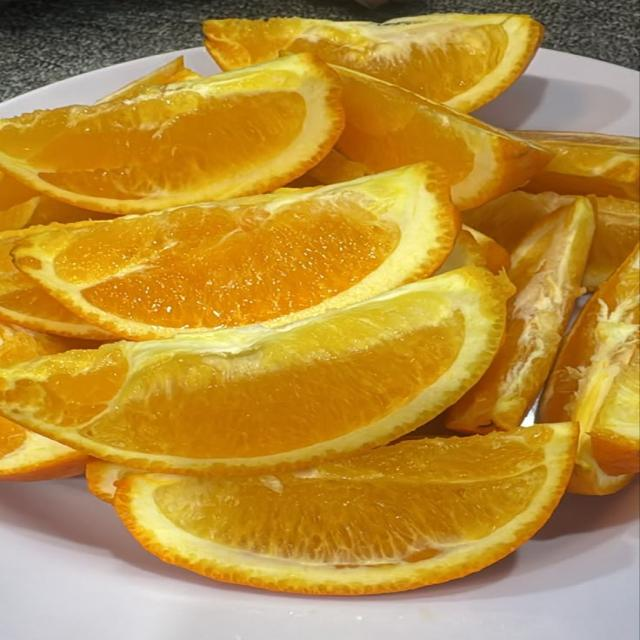orange: (0, 266, 513, 474), (114, 424, 577, 595), (14, 164, 459, 340), (0, 54, 343, 213), (447, 198, 594, 432), (310, 67, 552, 209), (203, 14, 543, 111), (538, 245, 639, 494), (0, 225, 113, 340), (517, 131, 639, 201), (463, 191, 575, 251), (0, 172, 112, 232), (0, 172, 111, 230), (0, 416, 86, 481), (97, 57, 201, 103), (436, 226, 510, 273), (85, 458, 144, 503)
